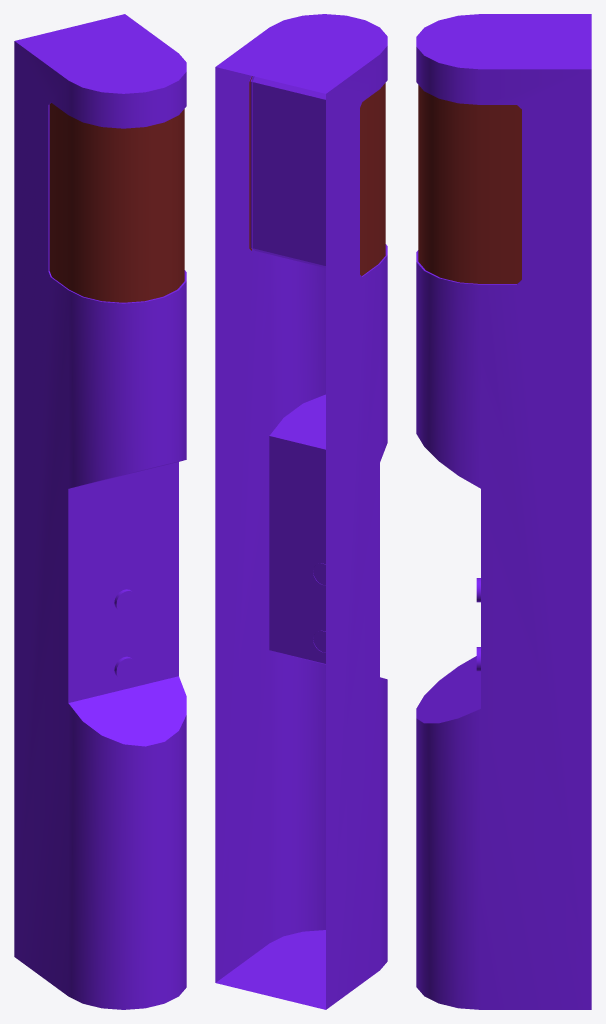
File: SM_RSG_Subway_Help_Point_01.fbx
3 renders of one model, left to right at view 1: azimuth 30°, elevation 25°; view 2: azimuth 150°, elevation 25°; view 3: azimuth 270°, elevation 25°, orthographic. The views are drawn at different scales.
Visible parts, largest first — view 1: SM_RSG_Subway_Help_Point_01; view 2: SM_RSG_Subway_Help_Point_01; view 3: SM_RSG_Subway_Help_Point_01.
Boxes of the visible parts, x1=… form: SM_RSG_Subway_Help_Point_01: x1=14, y1=14, x2=186, y2=1009; SM_RSG_Subway_Help_Point_01: x1=215, y1=14, x2=387, y2=1009; SM_RSG_Subway_Help_Point_01: x1=416, y1=14, x2=591, y2=1009.
Size of the model in its own units: 19.57 by 155 by 26.18.
